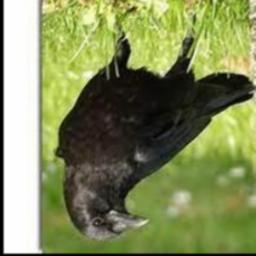Crow: (53, 0, 256, 243)
